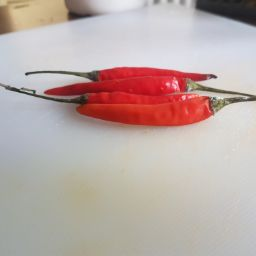Cayenne pepper: (2, 54, 256, 134)
